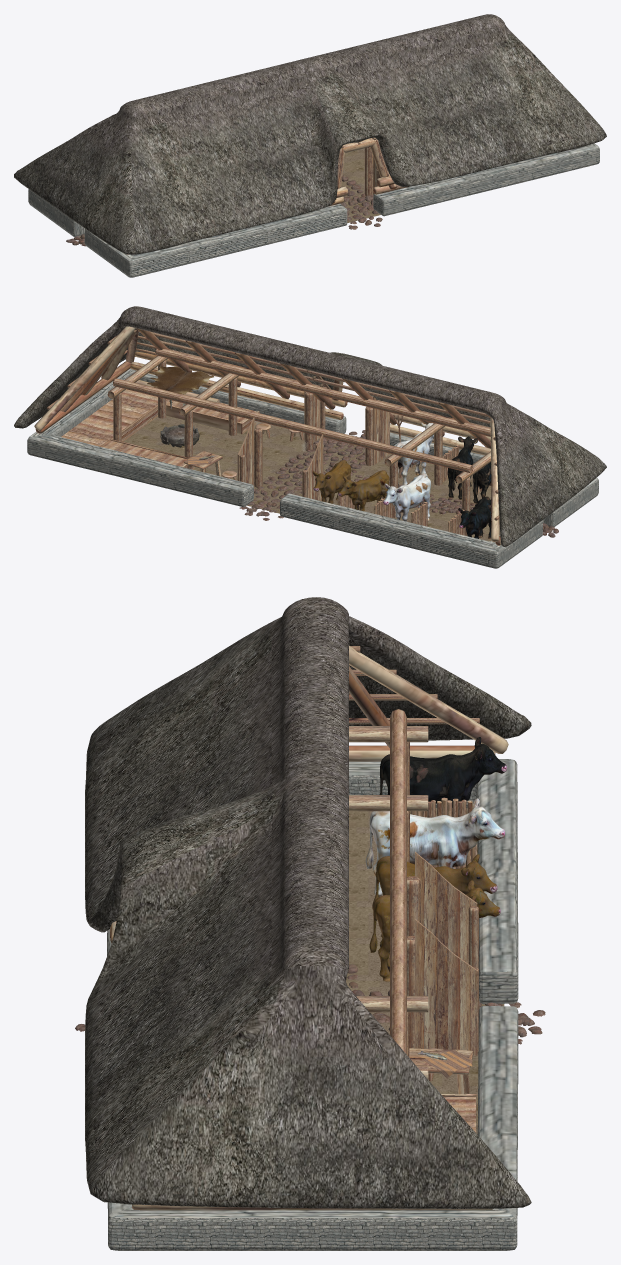
The model's file is 03_Model_komp.glb.
3 renders of one model, top to bottom at view 1: azimuth 30°, elevation 25°; view 2: azimuth 150°, elevation 25°; view 3: azimuth 270°, elevation 25°, orthographic. The views are drawn at different scales.
Parts seen in each view (by area): view 1: Dach.001, Rasenwand, Plane, BézierCurve, Pfahl.010; view 2: Dach.001, Rasenwand, Plane, Dachbalken.001, Dachbalken.002, BalkenKlein, BézierCurve, Dachleisten, Balken1, Bank, CowWhite01, Balken2 (+30 smaller); view 3: Dach.001, Rasenwand, BrettereingangLQ.003, Plane, Dachbalken.001, CowWhite01, Dachleisten.002, CowBlack01.002, BrettereingangLQ.002, Balken1, CowBrown02, CowBrown01 (+4 smaller).
Boxes of the visible parts, left/top/right/bottom form: Dach.001: left=14, top=14, right=606, bottom=254; Rasenwand: left=28, top=143, right=599, bottom=277; Plane: left=79, top=148, right=380, bottom=238; BézierCurve: left=340, top=174, right=382, bottom=229; Pfahl.010: left=364, top=148, right=373, bottom=195; Dach.001: left=14, top=306, right=606, bottom=546; Rasenwand: left=27, top=368, right=598, bottom=568; Plane: left=123, top=415, right=500, bottom=541; Dachbalken.001: left=113, top=378, right=473, bottom=472; Dachbalken.002: left=155, top=348, right=490, bottom=436; BalkenKlein: left=46, top=331, right=499, bottom=520; BézierCurve: left=239, top=430, right=366, bottom=520; Dachleisten: left=34, top=326, right=138, bottom=431; Balken1: left=35, top=361, right=500, bottom=545; Bank: left=61, top=389, right=157, bottom=446; CowWhite01: left=383, top=473, right=430, bottom=521; Balken2: left=135, top=351, right=490, bottom=442; Dach.001: left=85, top=597, right=531, bottom=1208; Rasenwand: left=107, top=759, right=518, bottom=1250; BrettereingangLQ.003: left=414, top=919, right=477, bottom=1055; Plane: left=346, top=808, right=504, bottom=1134; Dachbalken.001: left=390, top=709, right=406, bottom=1054; CowWhite01: left=365, top=798, right=504, bottom=896; Dachleisten.002: left=349, top=646, right=508, bottom=753; CowBlack01.002: left=380, top=737, right=506, bottom=816; BrettereingangLQ.002: left=415, top=852, right=477, bottom=963; Balken1: left=131, top=745, right=495, bottom=1210; CowBrown02: left=372, top=854, right=497, bottom=936; CowBrown01: left=369, top=880, right=500, bottom=981.
Size of the model in its own units: 20.87 by 5.42 by 8.62.
18 materials, 18 textured.
